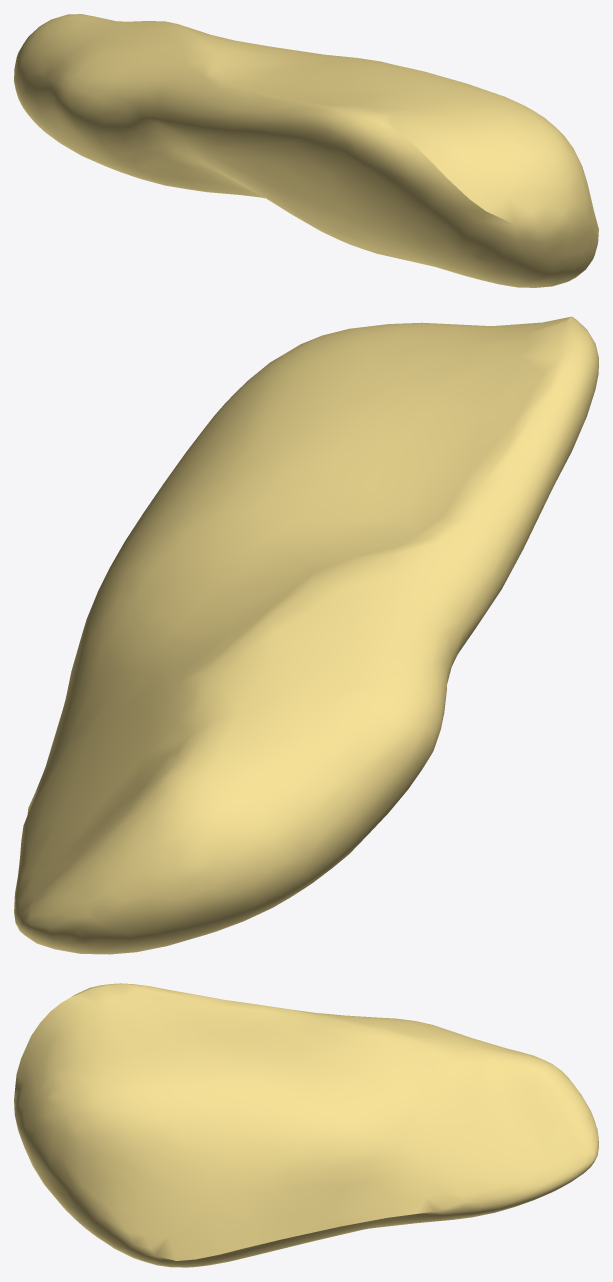
The model's file is fma77383-l_mm2858.glb.
3 renders of one model, top to bottom at view 1: azimuth 30°, elevation 25°; view 2: azimuth 150°, elevation 25°; view 3: azimuth 270°, elevation 25°, orthographic. The views are drawn at different scales.
Visible parts, largest first — view 1: FMA77383-L_MM2858; view 2: FMA77383-L_MM2858; view 3: FMA77383-L_MM2858.
Part boxes in pixels (x1=…): FMA77383-L_MM2858: x1=14, y1=14, x2=598, y2=287; FMA77383-L_MM2858: x1=14, y1=316, x2=598, y2=954; FMA77383-L_MM2858: x1=14, y1=983, x2=598, y2=1267.
Bounding box in the file's own units: 0.00987 × 0.00649 × 0.0176.
